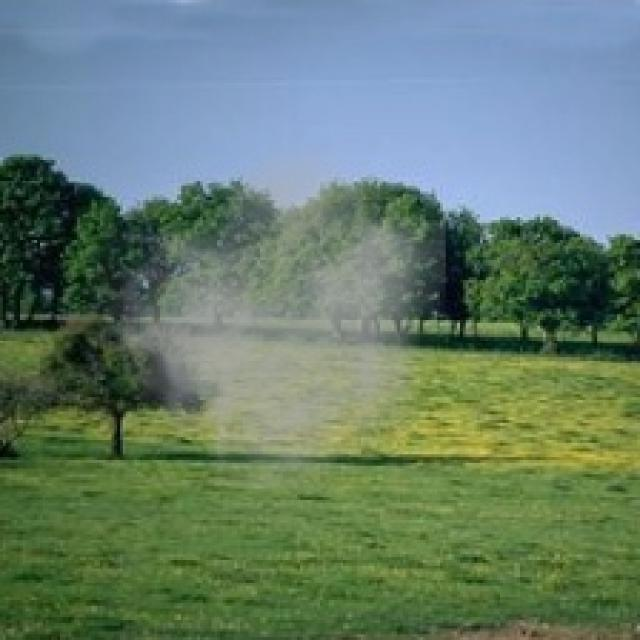smoke: (74, 132, 446, 512)
